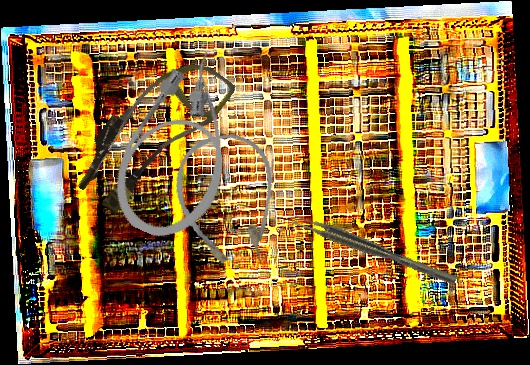Cannula: (97, 37, 268, 253), (65, 37, 238, 228), (168, 128, 287, 277)
Tissue Forceps: (290, 210, 458, 291)
